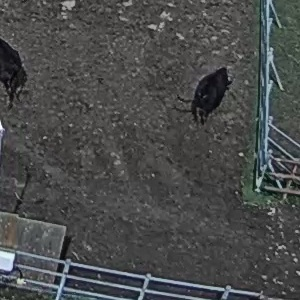cow: (1, 32, 45, 111), (190, 58, 231, 137)
